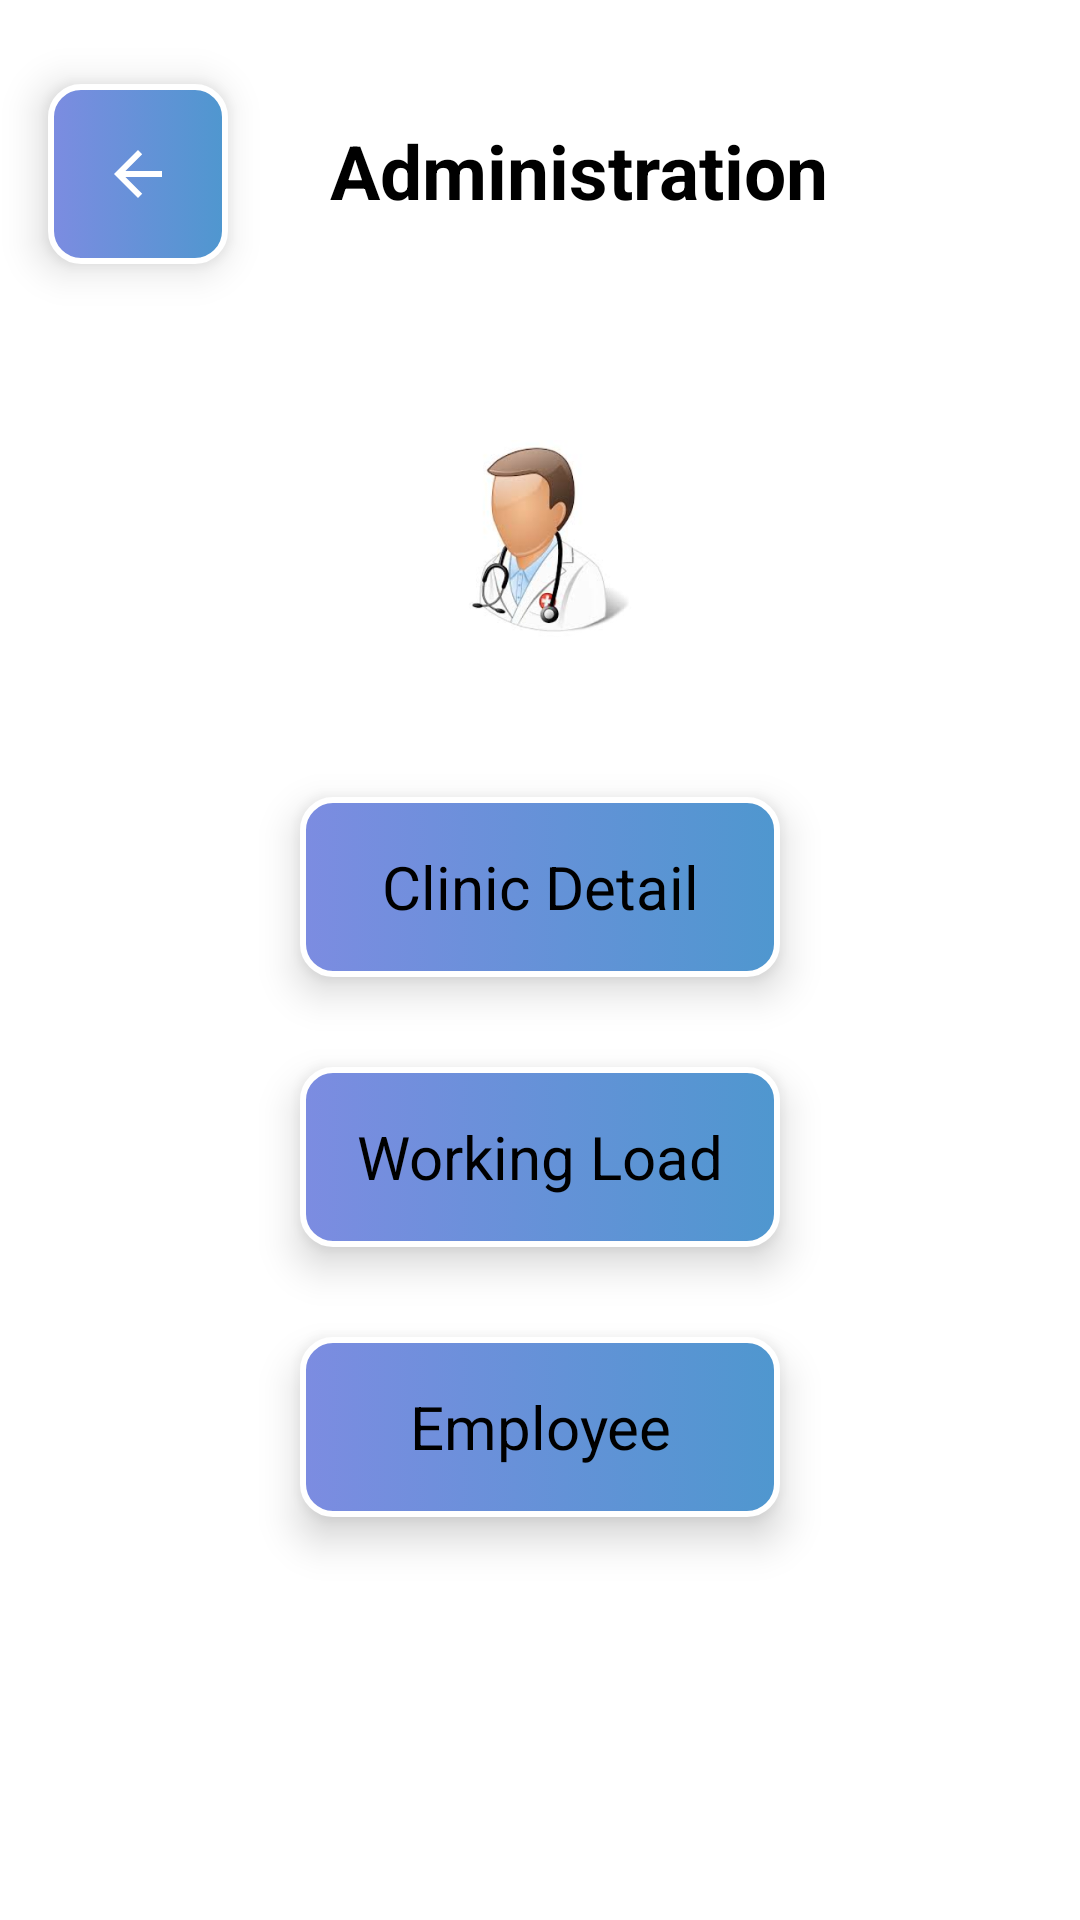

Icon click points for this 1080*1920 phone screenshot, format [x,y]:
doctor: [548,539]
